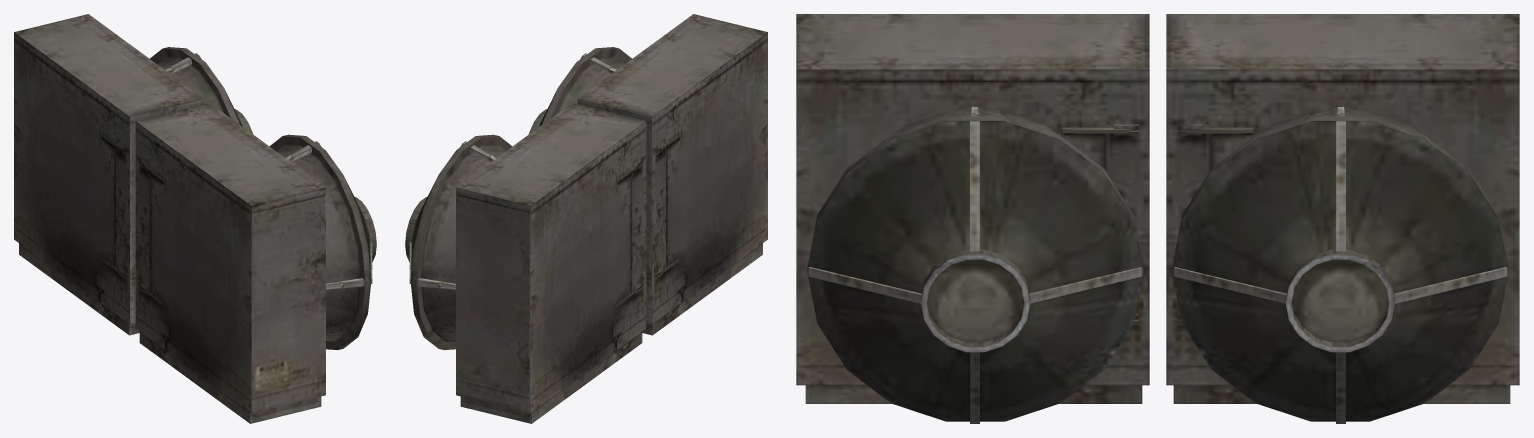
File: substation_transformer01b.glb
3 renders of one model, left to right at view 1: azimuth 30°, elevation 25°; view 2: azimuth 150°, elevation 25°; view 3: azimuth 270°, elevation 25°, orthographic. The views are drawn at different scales.
Visible parts, largest first — view 1: 0_substation_transformer01b; view 2: 0_substation_transformer01b; view 3: 0_substation_transformer01b.
Boxes of the visible parts, bbox=[...] form: 0_substation_transformer01b: bbox=[14, 14, 376, 423]; 0_substation_transformer01b: bbox=[405, 14, 767, 423]; 0_substation_transformer01b: bbox=[796, 14, 1519, 423].
Size of the model in its own units: 1.82 by 2.31 by 4.51.
Materials: 1 (1 with a texture image).
